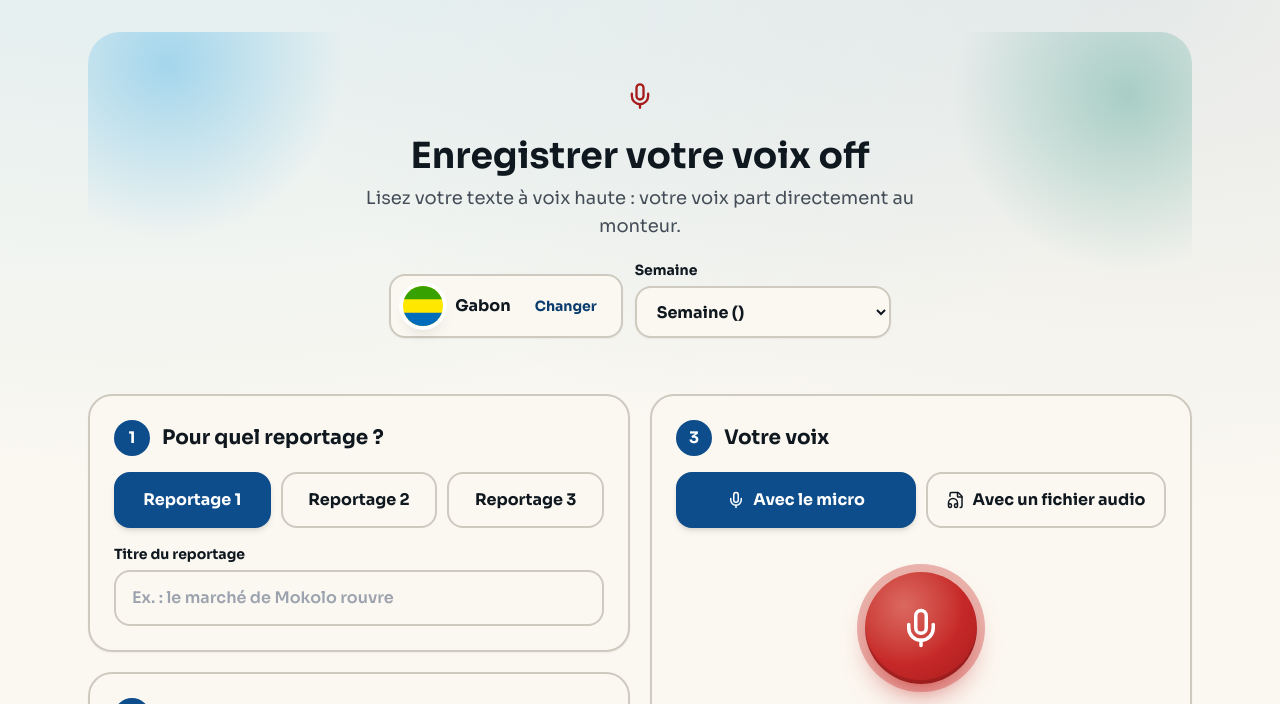
Test: StudioVoixJournaliste › micro refusé : le message dit quoi faire, dans la langue de l’écran
Click the button named "Commencer l’enregistrement": (921, 628) [865,572,977,684]
(page scrolled)
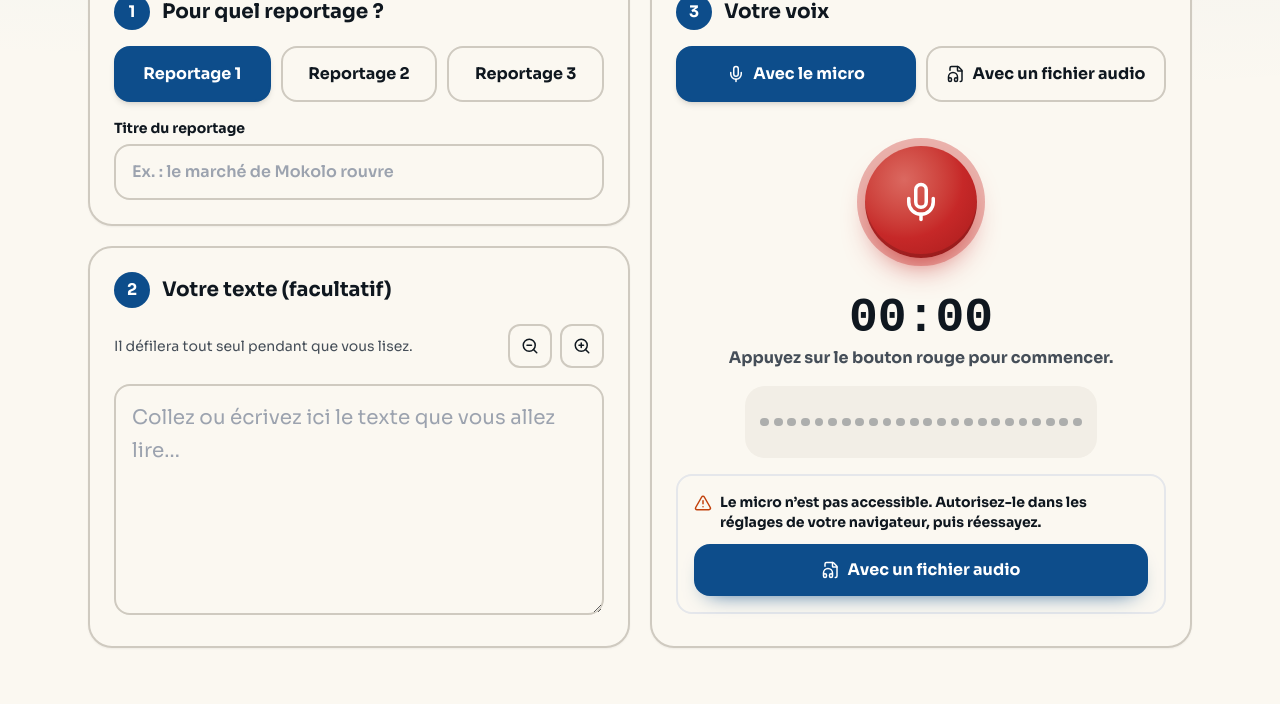
Expected: the message shows "Autorisez-le dans les réglages de votre navigateur", [720,493,1087,531]
Click the button "Avec un fichier audio" below "00:00": (921, 570) [694,544,1148,596]
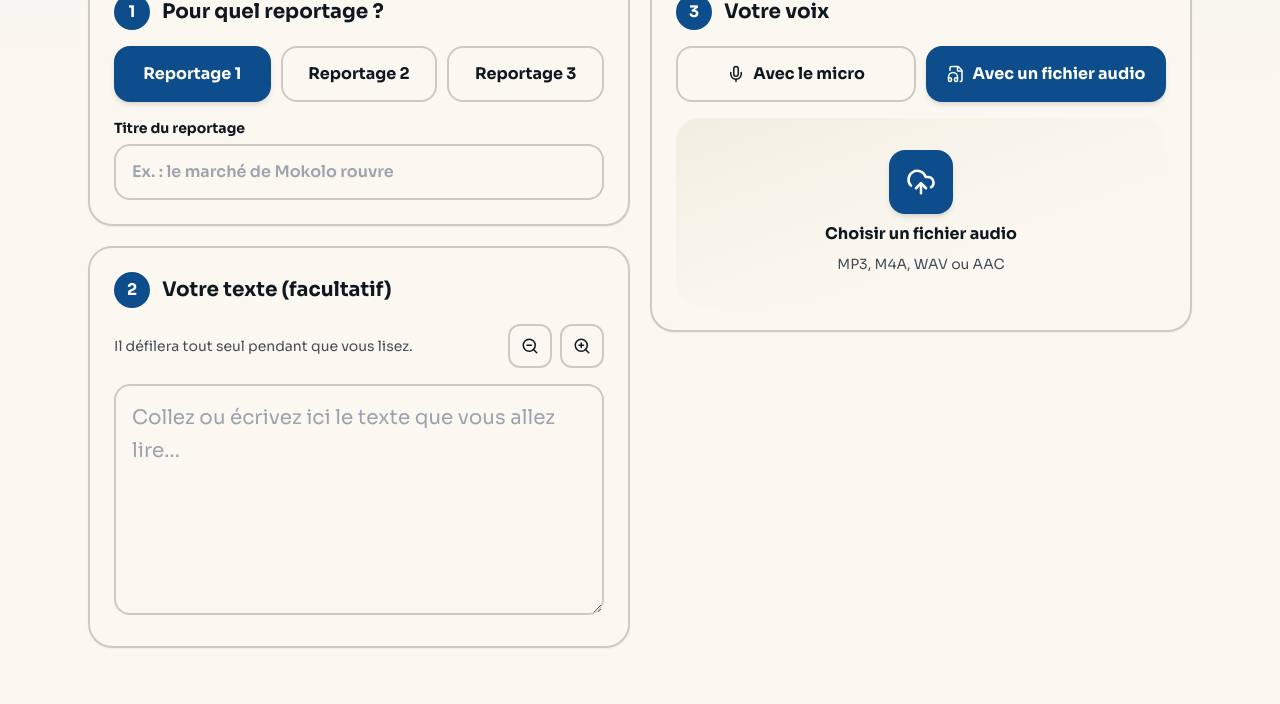
Expected: the button "Choisir un fichier audio MP3, M4A, WAV ou AAC" is shown, [676,118,1166,306]
